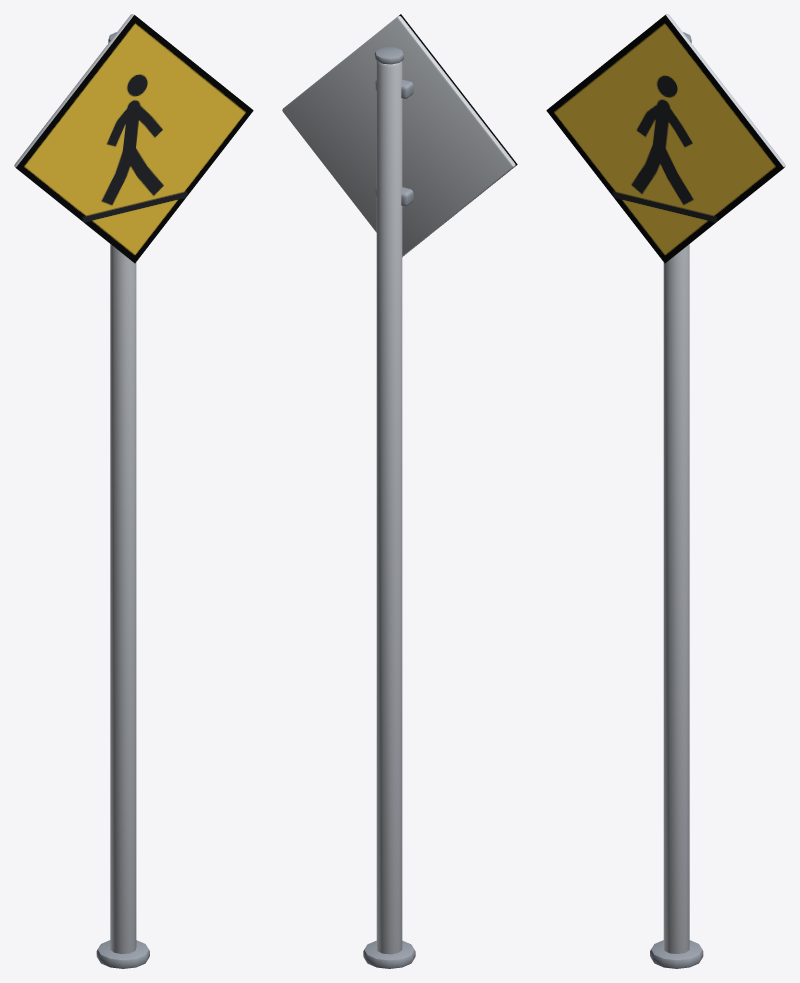
The model's file is placa_faixa_pedestres.glb.
3 renders of one model, left to right at view 1: azimuth 30°, elevation 25°; view 2: azimuth 150°, elevation 25°; view 3: azimuth 330°, elevation 25°, orthographic.
Parts seen in each view (by area): view 1: placa_faixa_pedestres; view 2: placa_faixa_pedestres; view 3: placa_faixa_pedestres.
Part boxes in pixels (<box>): placa_faixa_pedestres: <box>14,14,253,968</box>; placa_faixa_pedestres: <box>282,14,517,968</box>; placa_faixa_pedestres: <box>546,14,785,968</box>.
Size of the model in its own units: 0.72 by 2.76 by 0.14.
Materials: 2 (2 with a texture image).
